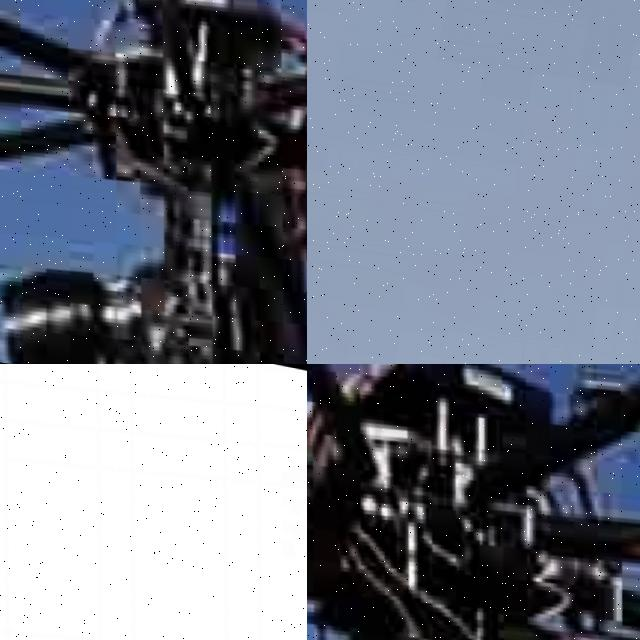drone: (0, 0, 307, 364), (307, 364, 640, 640), (0, 364, 307, 640)
